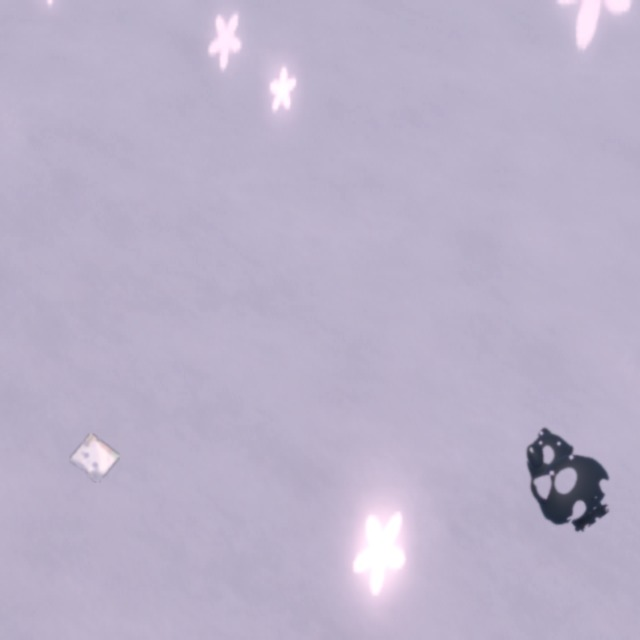urso_branco: (69, 433, 120, 483)
urso_preto: (494, 403, 633, 547)
